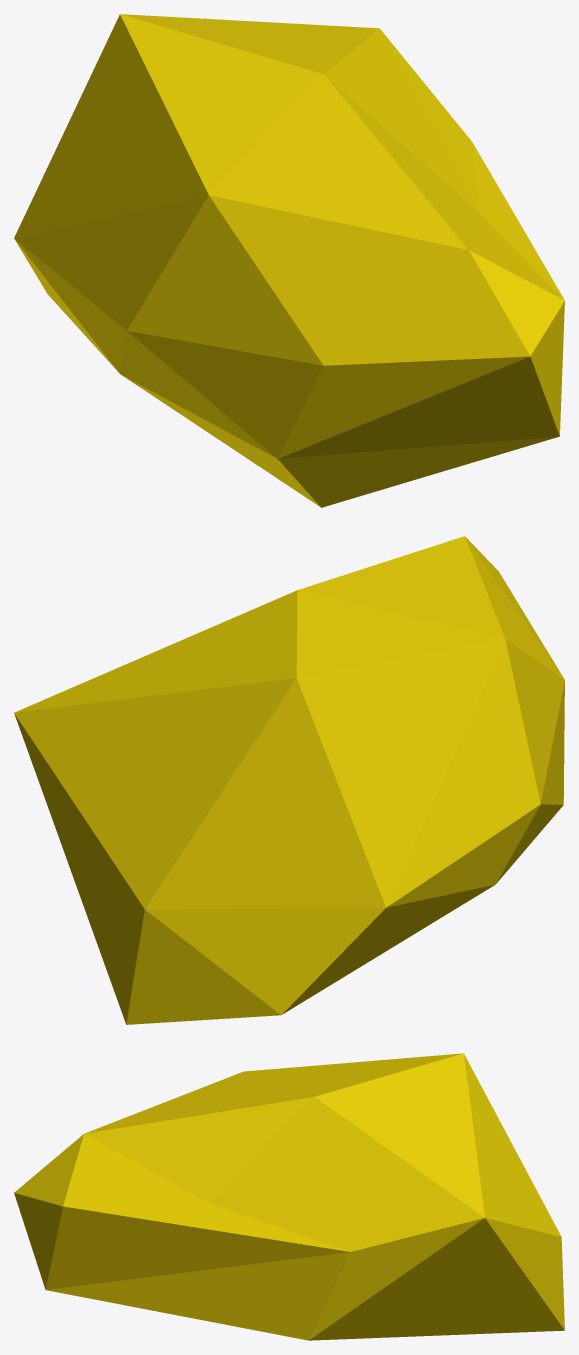
The model's file is Bush#3.fbx.
3 views of the same model, one above another, from view 1: azimuth 30°, elevation 25°; view 2: azimuth 150°, elevation 25°; view 3: azimuth 270°, elevation 25° (orthographic). The views are drawn at different scales.
Parts seen in each view (by area): view 1: Bush#3; view 2: Bush#3; view 3: Bush#3.
Boxes of the visible parts, x1=… form: Bush#3: x1=14, y1=14, x2=564, y2=507; Bush#3: x1=14, y1=536, x2=564, y2=1024; Bush#3: x1=14, y1=1053, x2=564, y2=1340.
Size of the model in its own units: 213 by 180 by 352.
